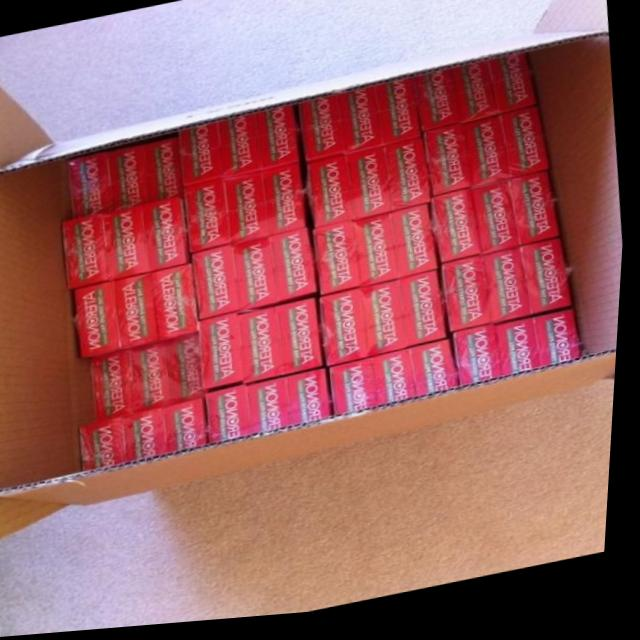box: (0, 0, 626, 543), (441, 262, 500, 341), (521, 245, 578, 322), (431, 193, 483, 272), (185, 179, 235, 261), (501, 118, 559, 186), (513, 179, 565, 254), (205, 315, 253, 396), (306, 158, 356, 235), (391, 211, 442, 286), (403, 278, 453, 354), (279, 302, 327, 381), (386, 143, 435, 219), (367, 286, 415, 363), (253, 109, 309, 175), (68, 215, 117, 290), (264, 164, 311, 242), (141, 198, 188, 274), (462, 125, 513, 194), (339, 91, 392, 157), (274, 234, 321, 308), (156, 268, 200, 347), (326, 294, 369, 374), (237, 242, 283, 316), (318, 228, 365, 300), (67, 151, 116, 219), (346, 153, 393, 223), (96, 352, 144, 420), (535, 319, 592, 376), (196, 250, 240, 323), (243, 309, 283, 388), (78, 280, 119, 357), (490, 256, 532, 331), (83, 417, 139, 473), (475, 189, 519, 260), (425, 132, 469, 202), (216, 118, 264, 181), (120, 276, 159, 352), (228, 175, 269, 247), (459, 334, 508, 394), (356, 221, 396, 294), (414, 347, 463, 404), (424, 74, 469, 135), (180, 123, 222, 188), (375, 353, 422, 411), (254, 381, 301, 439), (116, 206, 153, 279), (298, 99, 343, 159), (387, 83, 427, 150), (113, 143, 153, 210), (334, 363, 380, 421), (212, 386, 257, 445), (288, 375, 337, 429), (171, 336, 207, 405), (147, 139, 185, 204), (501, 327, 545, 382), (495, 60, 535, 119), (136, 408, 177, 465), (171, 401, 214, 452), (142, 345, 175, 409), (465, 68, 496, 124)
